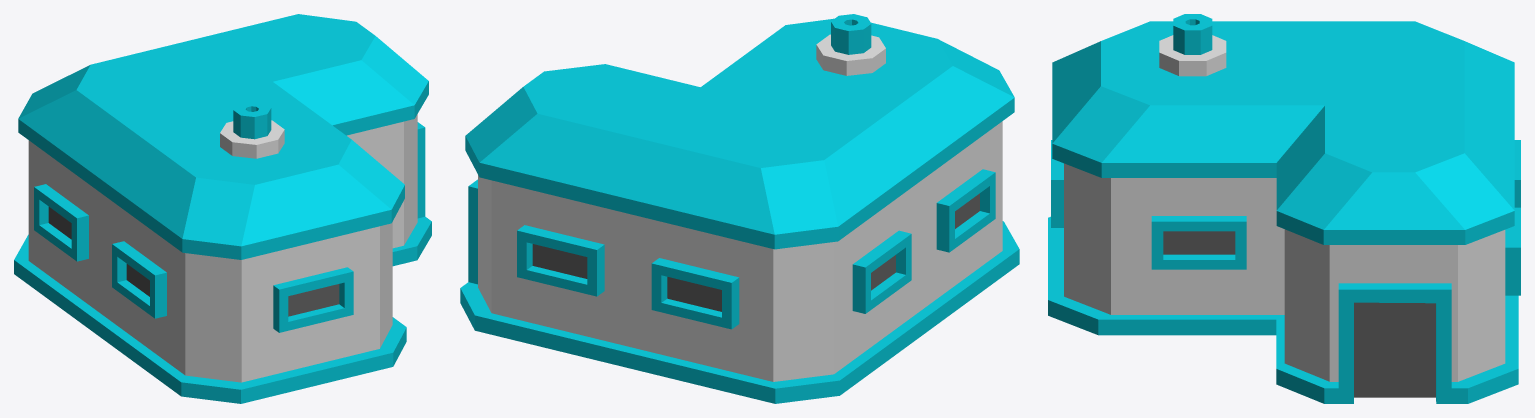
Rendered from House.fbx.
The picture shows the model from 3 angles, left to right: view 1: azimuth 30°, elevation 25°; view 2: azimuth 150°, elevation 25°; view 3: azimuth 270°, elevation 25°; orthographic projection. The views are drawn at different scales.
Parts seen in each view (by area): view 1: Cube, Cube.002, Cube.003, Cube.004, Cylinder; view 2: Cube, Cube.005, Cube.006, Cube.003, Cube.004, Cylinder; view 3: Cube, Cube.001, Cylinder, Cube.006, Cube.002, Cube.005.
Boxes of the visible parts, x1,y1,x2,y2 form: Cube: (14,14,431,403); Cube.002: (273,267,353,332); Cube.003: (112,241,166,318); Cube.004: (34,184,88,261); Cylinder: (220,101,284,158); Cube: (460,18,1019,403); Cube.005: (651,258,739,329); Cube.006: (517,225,604,296); Cube.003: (936,169,995,252); Cube.004: (852,230,911,313); Cylinder: (816,14,885,75); Cube: (1048,21,1518,403); Cube.001: (1151,216,1246,269); Cylinder: (1159,14,1226,76); Cube.006: (1505,207,1520,295); Cube.002: (1051,140,1063,227); Cube.005: (1514,140,1520,207).
Bounding box in the file's own units: 205 × 126 × 214.
